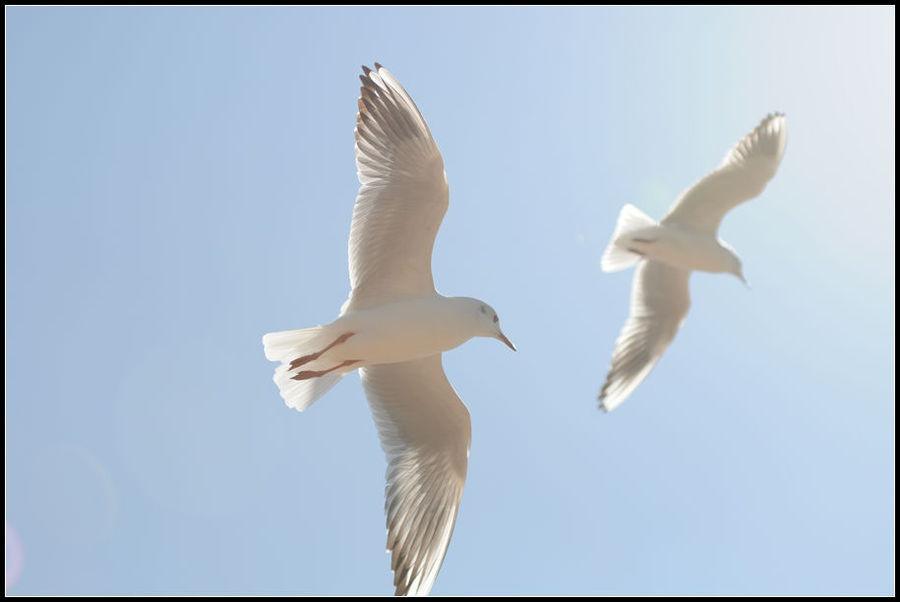bird: (252, 63, 518, 598), (591, 112, 791, 398)
